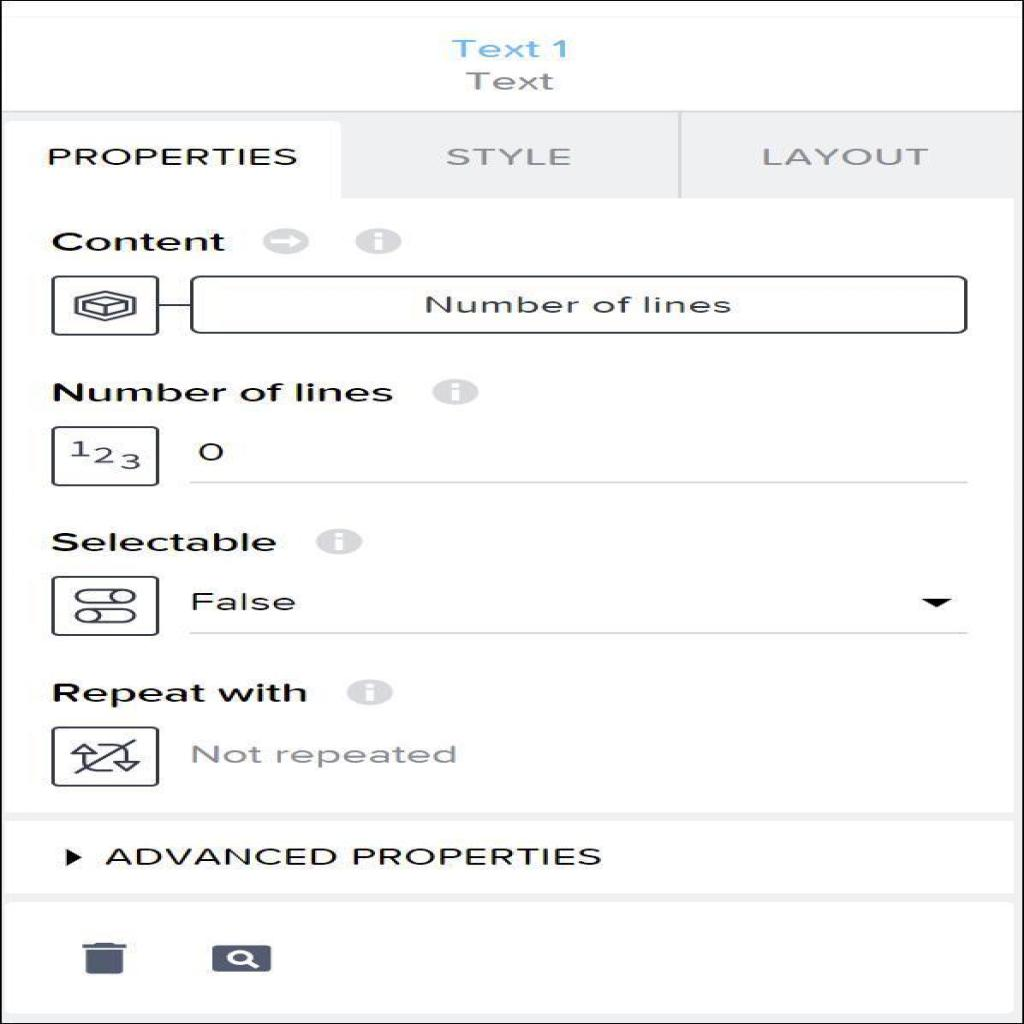button: (188, 274, 971, 334), (678, 112, 1019, 198), (346, 112, 680, 196), (3, 122, 351, 194)
dropdown: (187, 581, 971, 632)
icon: (200, 938, 286, 982), (65, 938, 146, 984), (66, 583, 146, 629), (67, 737, 144, 780), (70, 289, 142, 326), (308, 525, 370, 561), (428, 374, 485, 413), (354, 225, 408, 258), (262, 224, 315, 257), (346, 677, 397, 707)
label: (97, 846, 620, 868), (40, 377, 396, 408), (46, 678, 314, 709), (43, 529, 289, 559), (39, 223, 233, 259)
